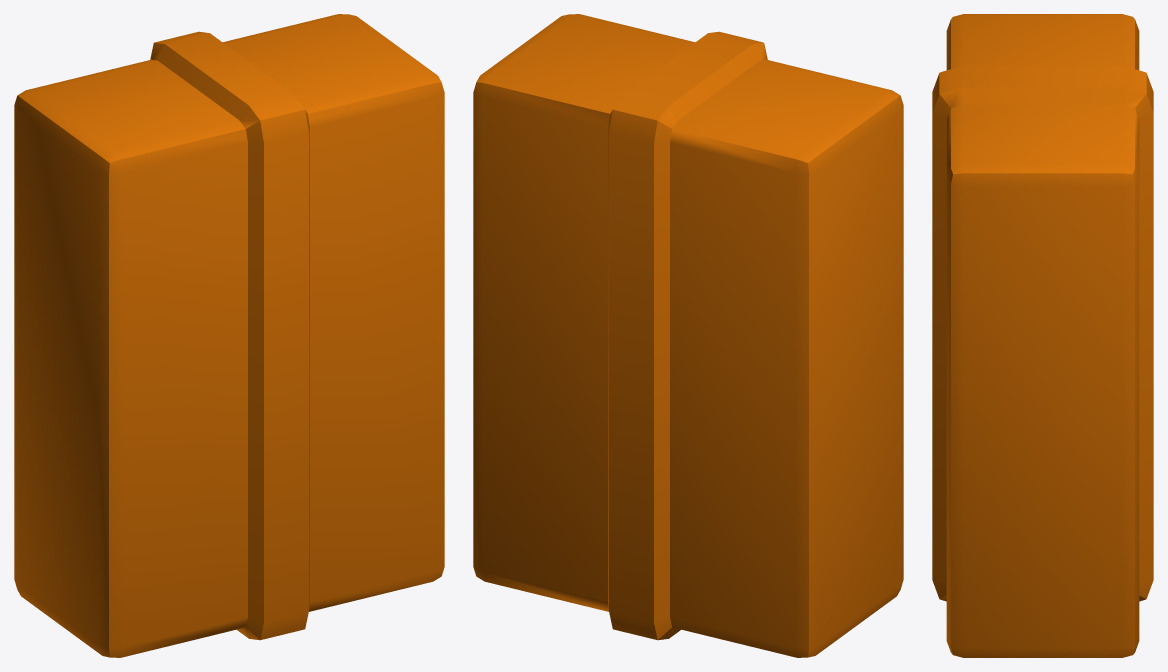
The model's file is SM_Bill03.fbx.
3 views of the same model, side by side, from view 1: azimuth 30°, elevation 25°; view 2: azimuth 150°, elevation 25°; view 3: azimuth 270°, elevation 25° (orthographic). The views are drawn at different scales.
Parts seen in each view (by area): view 1: SM_Bill03; view 2: SM_Bill03; view 3: SM_Bill03.
Part boxes in pixels (x1,y1,x2,y2): SM_Bill03: (14,14,444,657); SM_Bill03: (473,14,903,657); SM_Bill03: (932,14,1153,657).
Bounding box in the file's own units: 50.8 × 75.43 × 29.22.
